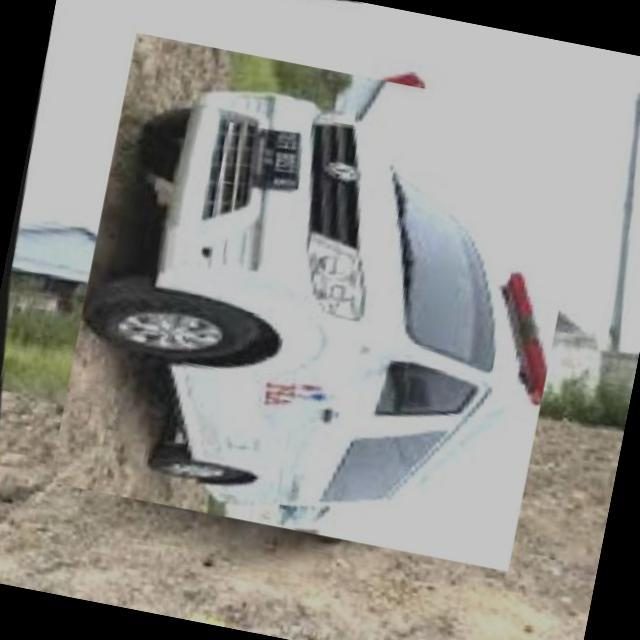emergency-vehicle: (51, 31, 594, 574)
